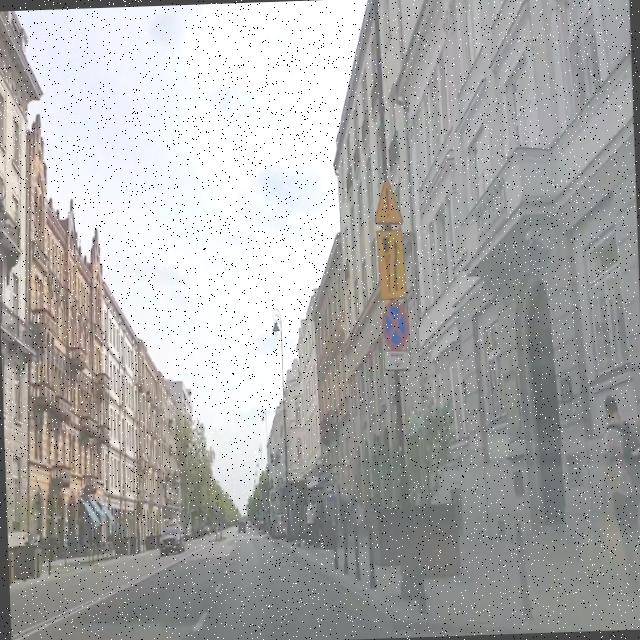Zakaz zatrzymywania sie: (380, 300, 409, 349)
